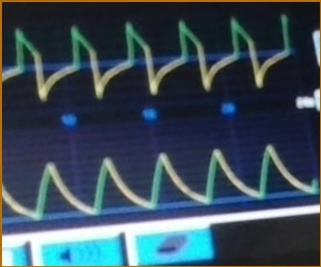Normal Flow: (4, 12, 293, 102)
Normal Volume: (4, 137, 317, 220)
